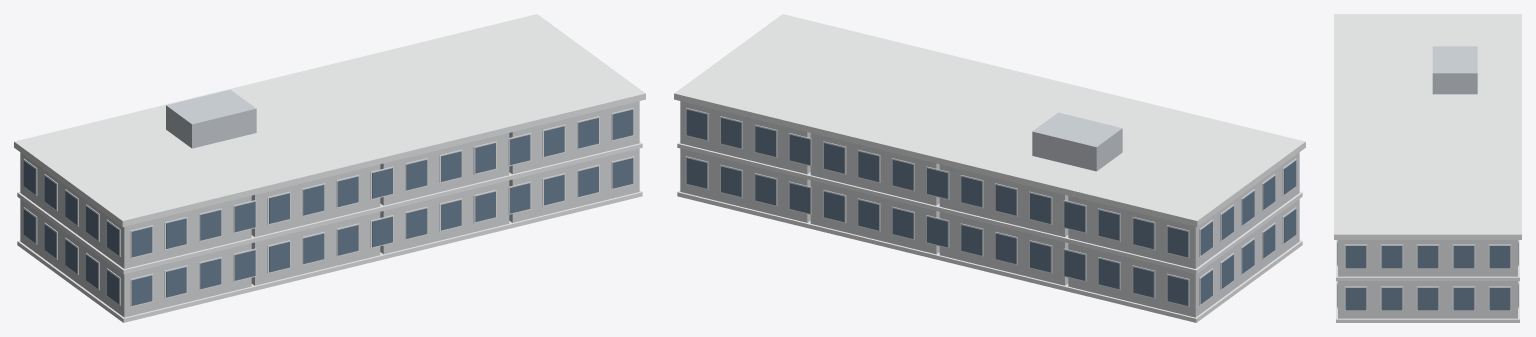
File: harbor_point_hotel_2f.glb
The picture shows the model from 3 angles, left to right: view 1: azimuth 30°, elevation 25°; view 2: azimuth 150°, elevation 25°; view 3: azimuth 270°, elevation 25°; orthographic projection. The views are drawn at different scales.
Parts seen in each view (by area): view 1: Slabs, Windows, Window_Frames, room_101, room_201, Roof_Plant, room_103, room_102, room_202, room_203, room_104, room_204; view 2: Slabs, Windows, Window_Frames, room_101, room_201, Roof_Plant, room_103, room_102, room_202, room_203, room_104, room_204; view 3: Slabs, Windows, room_104, room_204, Roof_Plant, Window_Frames.
Boxes of the visible parts, left/top/right/bottom form: Slabs: left=14, top=14, right=645, bottom=322; Windows: left=23, top=109, right=633, bottom=305; Window_Frames: left=23, top=108, right=634, bottom=307; room_101: left=20, top=199, right=251, bottom=317; room_201: left=20, top=152, right=251, bottom=268; Roof_Plant: left=166, top=89, right=256, bottom=148; room_103: left=380, top=180, right=509, bottom=254; room_102: left=251, top=212, right=380, bottom=285; room_202: left=251, top=164, right=380, bottom=236; room_203: left=380, top=133, right=509, bottom=205; room_104: left=509, top=148, right=639, bottom=222; room_204: left=509, top=101, right=639, bottom=174; Slabs: left=674, top=14, right=1305, bottom=322; Windows: left=686, top=109, right=1296, bottom=305; Window_Frames: left=685, top=108, right=1296, bottom=307; room_101: left=1068, top=199, right=1299, bottom=317; room_201: left=1068, top=152, right=1299, bottom=268; Roof_Plant: left=1032, top=112, right=1122, bottom=171; room_103: left=810, top=180, right=939, bottom=254; room_102: left=939, top=212, right=1068, bottom=285; room_202: left=939, top=164, right=1068, bottom=236; room_203: left=810, top=133, right=939, bottom=205; room_104: left=680, top=148, right=810, bottom=222; room_204: left=680, top=101, right=810, bottom=174; Slabs: left=1334, top=14, right=1521, bottom=322; Windows: left=1337, top=240, right=1518, bottom=310; room_104: left=1338, top=281, right=1517, bottom=318; room_204: left=1338, top=240, right=1517, bottom=276; Roof_Plant: left=1432, top=46, right=1477, bottom=94; Window_Frames: left=1337, top=240, right=1518, bottom=310.
Bounding box in the file's own units: 4.06 × 0.945 × 1.46.
